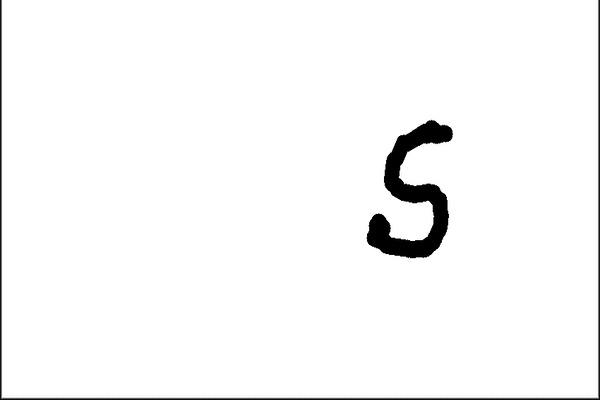S: (358, 113, 455, 269)
